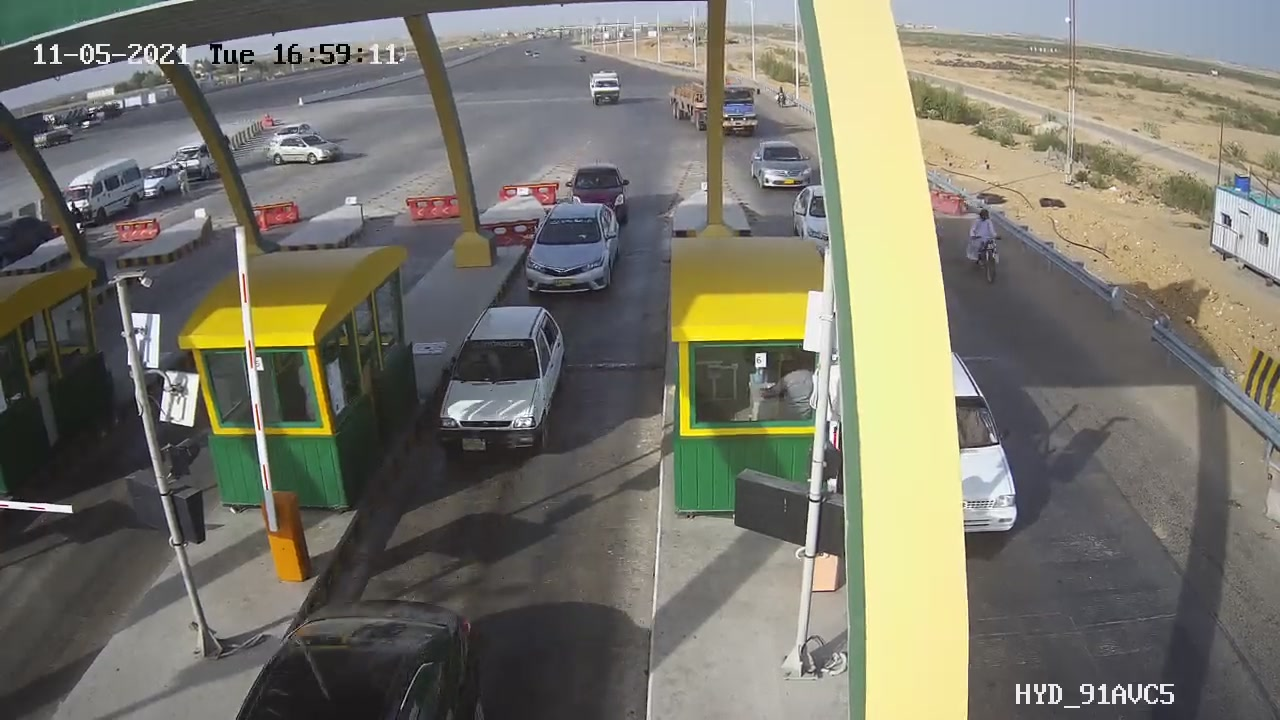F1: (423, 293, 579, 473), (510, 189, 628, 316)
